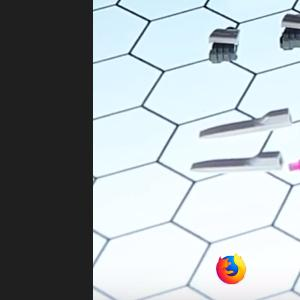firefox: (216, 252, 246, 284)
